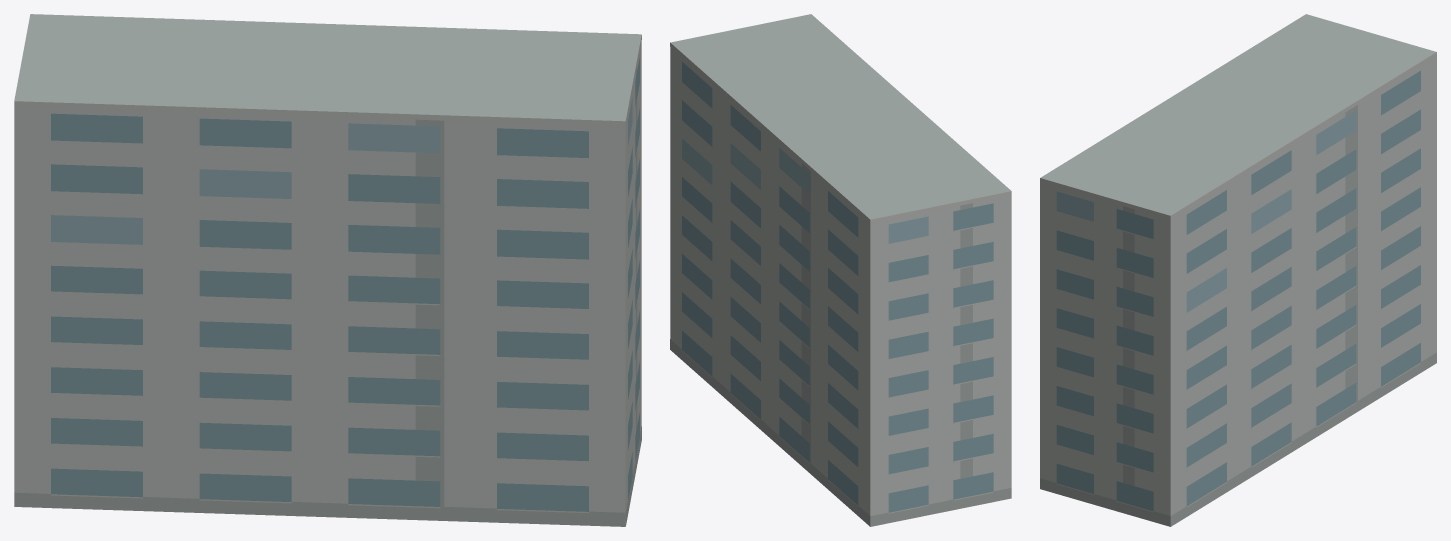
The model's file is residential-4193c3bf-e6fc-4ff3-bc0b-129780a58e3c.glb.
3 renders of one model, left to right at view 1: azimuth 30°, elevation 25°; view 2: azimuth 150°, elevation 25°; view 3: azimuth 270°, elevation 25°, orthographic. The views are drawn at different scales.
Visible parts, largest first — view 1: residential-4193c3bf-e6fc-4ff3-bc0b-129780a58e3c.tmp; view 2: residential-4193c3bf-e6fc-4ff3-bc0b-129780a58e3c.tmp; view 3: residential-4193c3bf-e6fc-4ff3-bc0b-129780a58e3c.tmp.
Part boxes in pixels (<box>): residential-4193c3bf-e6fc-4ff3-bc0b-129780a58e3c.tmp: <box>14,14,641,526</box>; residential-4193c3bf-e6fc-4ff3-bc0b-129780a58e3c.tmp: <box>670,14,1011,526</box>; residential-4193c3bf-e6fc-4ff3-bc0b-129780a58e3c.tmp: <box>1040,14,1436,526</box>.
Bounding box in the file's own units: 25.75 × 18.5 × 21.39.
